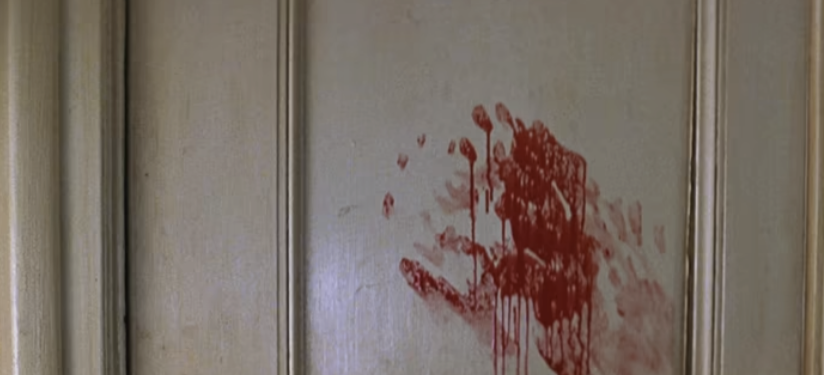blood_49.png: (375, 98, 689, 375)
